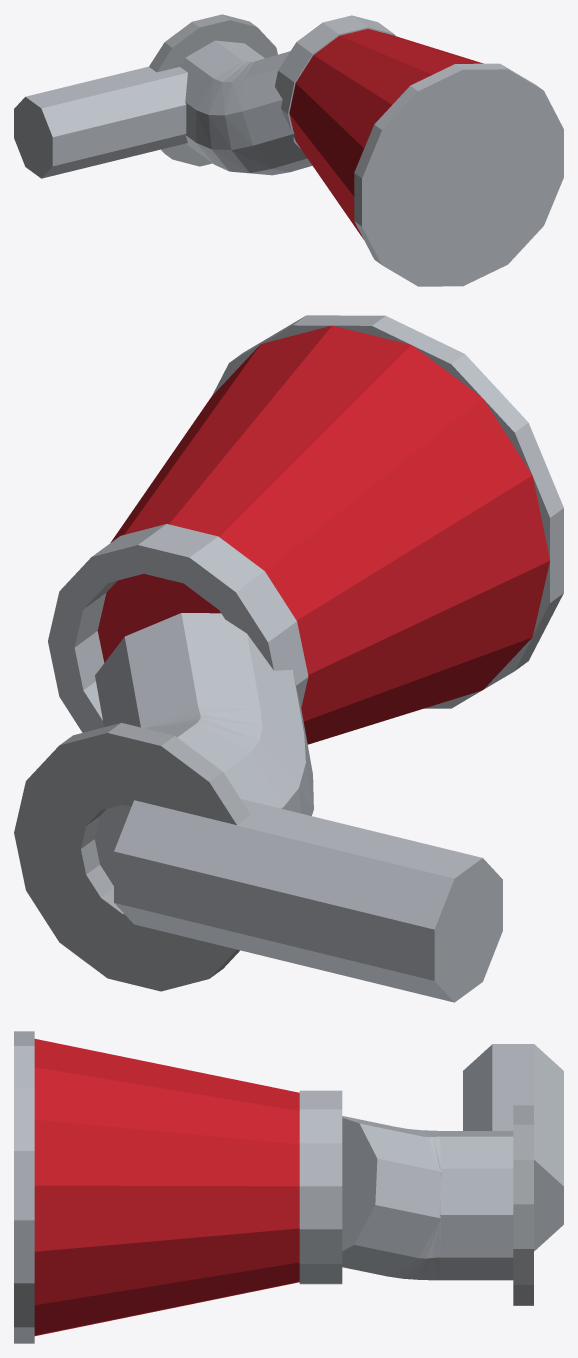
File: apex_v8.glb
3 views of the same model, one above another, from view 1: azimuth 30°, elevation 25°; view 2: azimuth 150°, elevation 25°; view 3: azimuth 270°, elevation 25° (orthographic). The views are drawn at different scales.
Visible parts, largest first — view 1: model; view 2: model; view 3: model.
Part boxes in pixels (box(x1,y1,x2,y2)): model: box(14, 14, 563, 286); model: box(14, 315, 563, 1002); model: box(14, 1031, 563, 1343).
Size of the model in its own units: 0.299 by 0.1848 by 0.3216.
2 materials, 1 textured.
